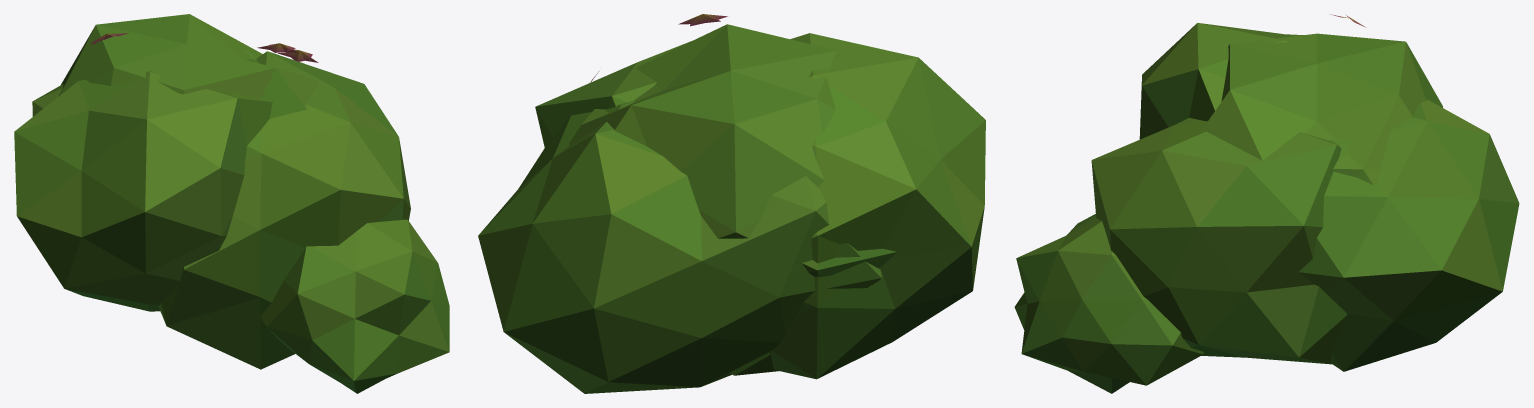
Rendered from hibiscus_pink.glb.
3 renders of one model, left to right at view 1: azimuth 30°, elevation 25°; view 2: azimuth 150°, elevation 25°; view 3: azimuth 270°, elevation 25°, orthographic. The views are drawn at different scales.
Visible parts, largest first — view 1: bush_hibiscus_pink_leafy; view 2: bush_hibiscus_pink_leafy; view 3: bush_hibiscus_pink_leafy.
Boxes of the visible parts, bbox=[...] form: bush_hibiscus_pink_leafy: bbox=[14, 14, 449, 393]; bush_hibiscus_pink_leafy: bbox=[478, 14, 985, 393]; bush_hibiscus_pink_leafy: bbox=[1014, 14, 1519, 393].
Size of the model in its own units: 1.3 by 1.08 by 1.57.
